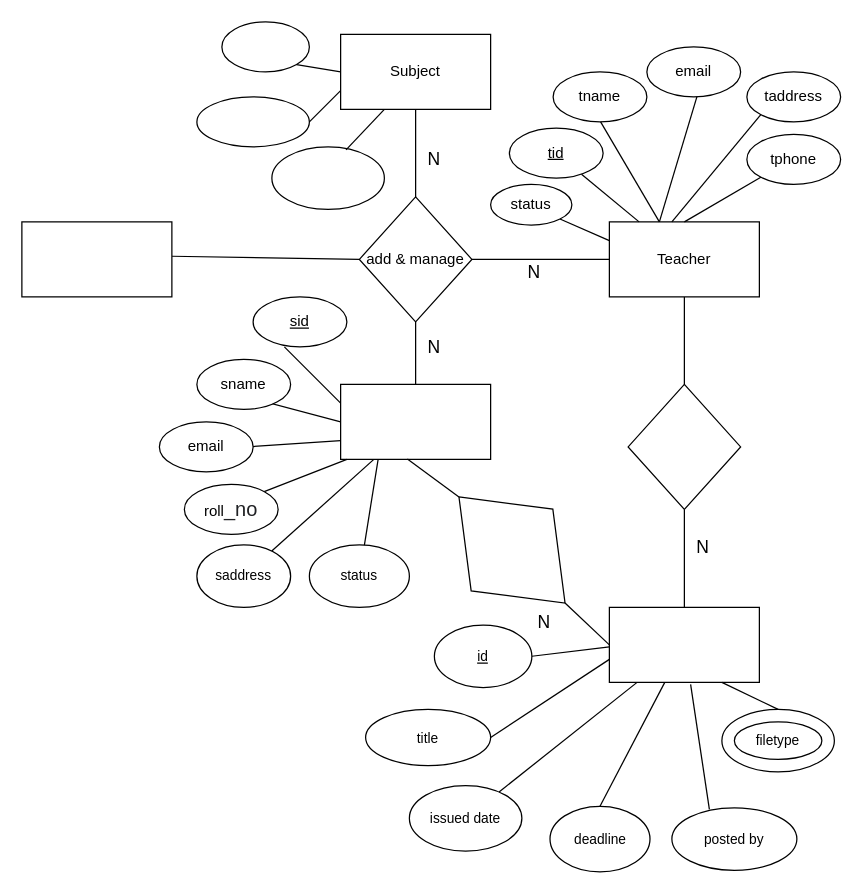
Image size: 863x894. Some labels were removed from this diagram. The shapes that lost their labels are listed below. From the top down, each one's box as (x1, y1, x2, y2) in pixels, then its label:
(221, 21, 309, 72): sub _id
(196, 96, 309, 147): sub _name
(271, 146, 384, 209): sub _code
(21, 221, 172, 297): Admin
(339, 383, 491, 459): Student
(627, 383, 741, 509): assigns
(417, 455, 606, 644): View & Submit
(608, 606, 759, 682): Assignment
